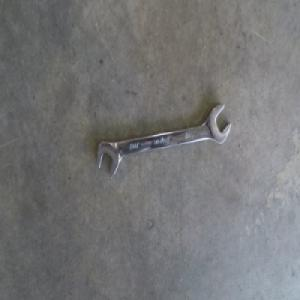Wrench: (96, 104, 233, 180)
